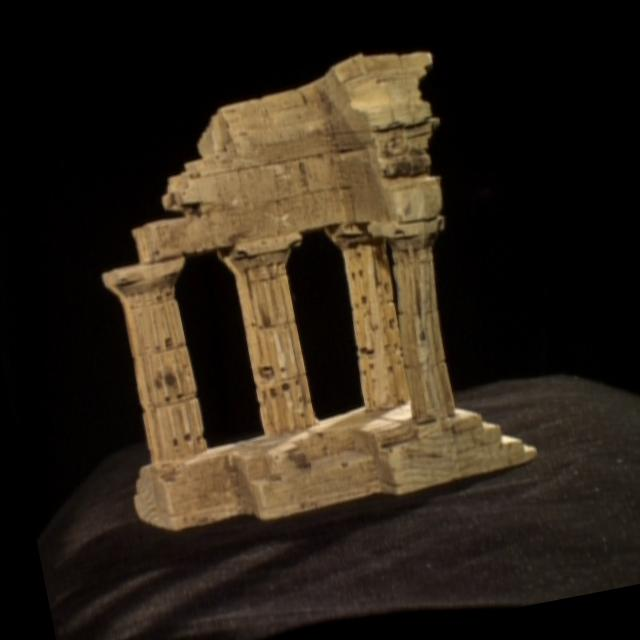Instance-Segmentation: (104, 53, 537, 530)
